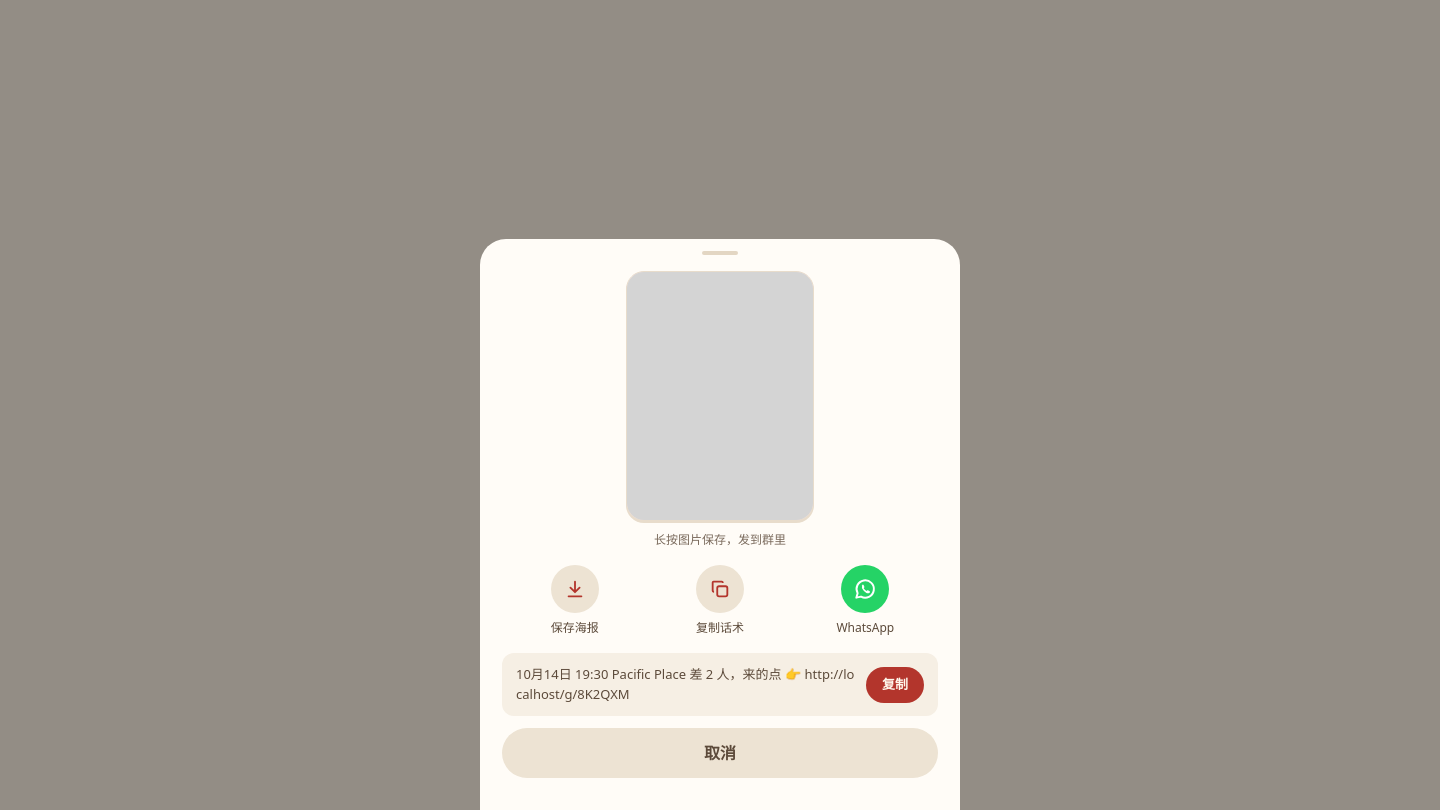
分享面板（04 / C1） › 复制话术之后按钮变成「已复制 ✓」
Click the button "复制": click(895, 684) [866,666,924,702]
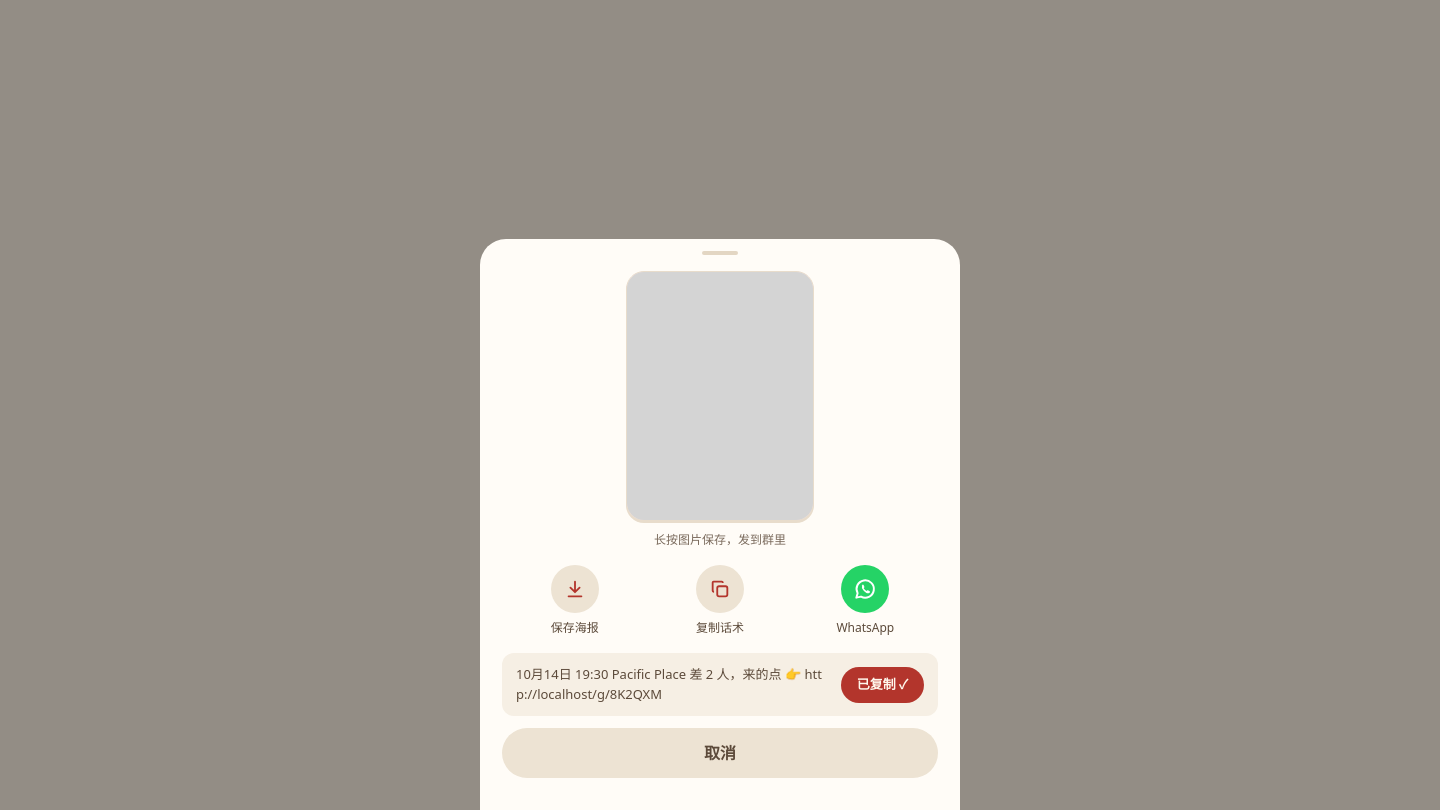
Now the button "已复制 ✓" is shown, box [841,666,924,702]
